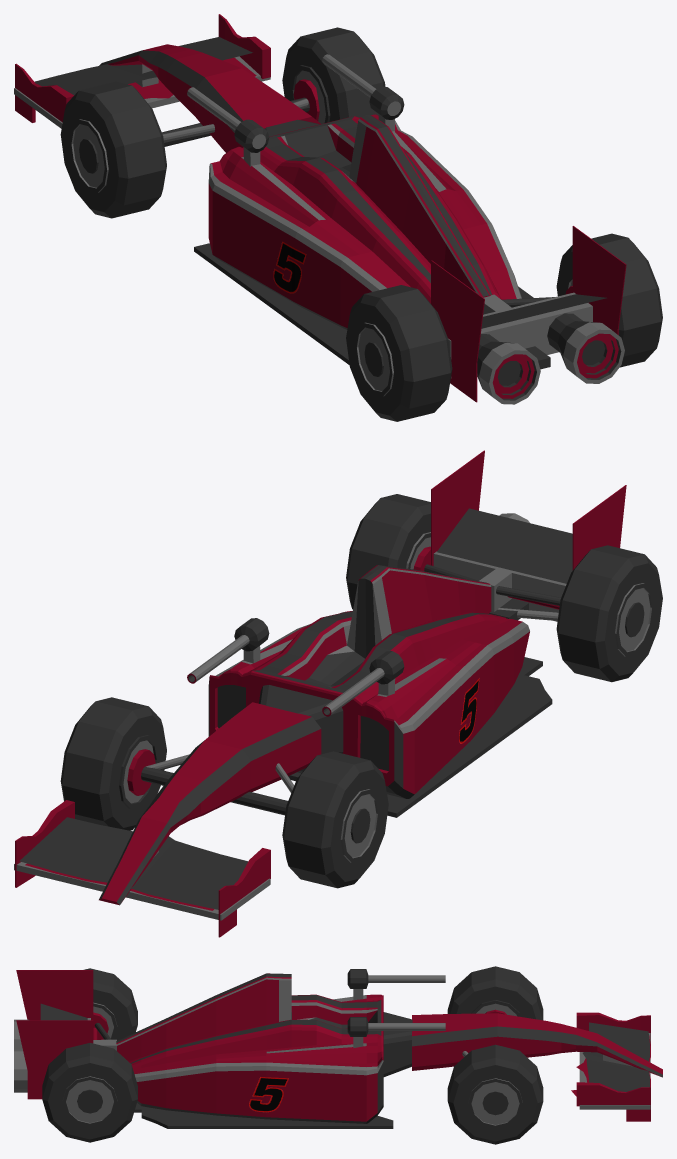
File: CarModel.fbx
3 views of the same model, one above another, from view 1: azimuth 30°, elevation 25°; view 2: azimuth 150°, elevation 25°; view 3: azimuth 270°, elevation 25° (orthographic). The views are drawn at different scales.
Parts seen in each view (by area): view 1: Car_Body, Front_Wheels, Rear_Wheels, Rear_Wing_Sides, Car_Nose, Jet_Booster, Guns, Car_Underbody, Front_Wing_Sides, Rear_Wing_Base, Front_Wing_Top, Rear_Wing_Top (+4 smaller); view 2: Car_Body, Front_Wheels, Rear_Wheels, Car_Nose, Front_Wing_Top, Rear_Wing_Top, Rear_Wing_Sides, Car_Underbody, Guns, Front_Wing_Sides, Rear_Wing_Base, Car_Nose_Bridge (+4 smaller); view 3: Car_Body, Front_Wheels, Rear_Wheels, Car_Nose, Rear_Wing_Sides, Car_Underbody, Front_Wing_Top, Front_Wing_Sides, Guns, Car_Nose_Bridge, 5_Logo_Left, Jet_Booster (+2 smaller).
Part boxes in pixels (x1,y1,x2,y2): Car_Body: (208, 114, 521, 329); Front_Wheels: (60, 27, 385, 218); Rear_Wheels: (346, 233, 662, 421); Rear_Wing_Sides: (431, 226, 626, 402); Car_Nose: (99, 44, 320, 152); Jet_Booster: (477, 313, 624, 404); Guns: (187, 54, 404, 166); Car_Underbody: (194, 243, 533, 364); Front_Wing_Sides: (15, 14, 270, 122); Rear_Wing_Base: (448, 292, 592, 378); Front_Wing_Top: (34, 37, 252, 95); Rear_Wing_Top: (481, 294, 606, 328); Car_Body: (208, 565, 529, 798); Front_Wheels: (60, 697, 388, 888); Rear_Wheels: (346, 494, 662, 682); Car_Nose: (99, 702, 321, 905); Front_Wing_Top: (19, 817, 248, 909); Rear_Wing_Top: (437, 508, 572, 583); Rear_Wing_Sides: (431, 450, 626, 570); Car_Underbody: (288, 657, 552, 817); Guns: (187, 618, 404, 716); Front_Wing_Sides: (15, 800, 270, 937); Rear_Wing_Base: (433, 551, 566, 621); Car_Nose_Bridge: (259, 685, 343, 754); Car_Body: (116, 973, 383, 1123); Front_Wheels: (447, 966, 543, 1144); Rear_Wheels: (42, 968, 137, 1142); Car_Nose: (412, 1013, 662, 1077); Rear_Wing_Sides: (16, 970, 93, 1099); Car_Underbody: (134, 1103, 393, 1128); Front_Wing_Top: (582, 1022, 649, 1091); Front_Wing_Sides: (576, 1012, 650, 1121); Guns: (347, 969, 445, 1047); Car_Nose_Bridge: (383, 1012, 412, 1076); 5_Logo_Left: (249, 1077, 288, 1112); Jet_Booster: (14, 1019, 29, 1092).
Bounding box in the file's own units: 627 × 375 × 1779.
5 materials, 2 textured.
